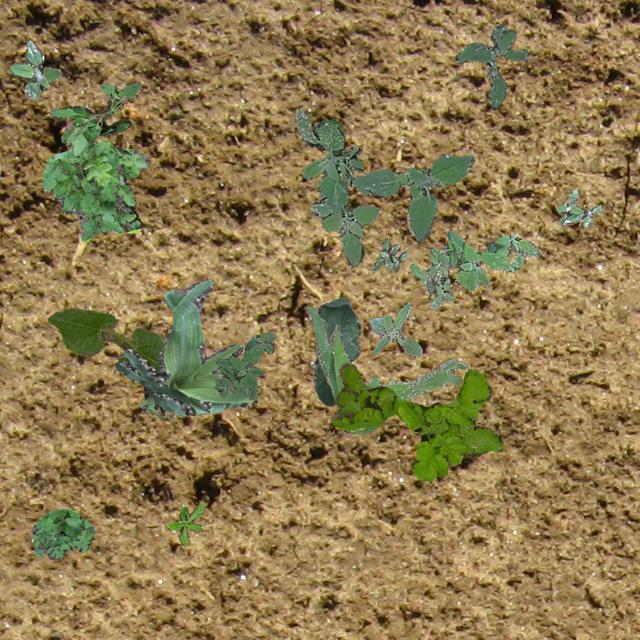crop: (114, 278, 256, 416), (46, 307, 164, 373), (312, 296, 359, 406)
weed: (294, 108, 474, 266), (304, 306, 468, 434), (330, 362, 502, 479), (40, 140, 148, 240), (408, 228, 540, 308), (48, 80, 140, 156), (454, 23, 526, 108), (213, 332, 274, 396), (32, 508, 94, 558), (10, 40, 60, 98), (368, 302, 422, 354), (556, 188, 602, 226), (166, 502, 204, 544), (370, 238, 408, 272)
